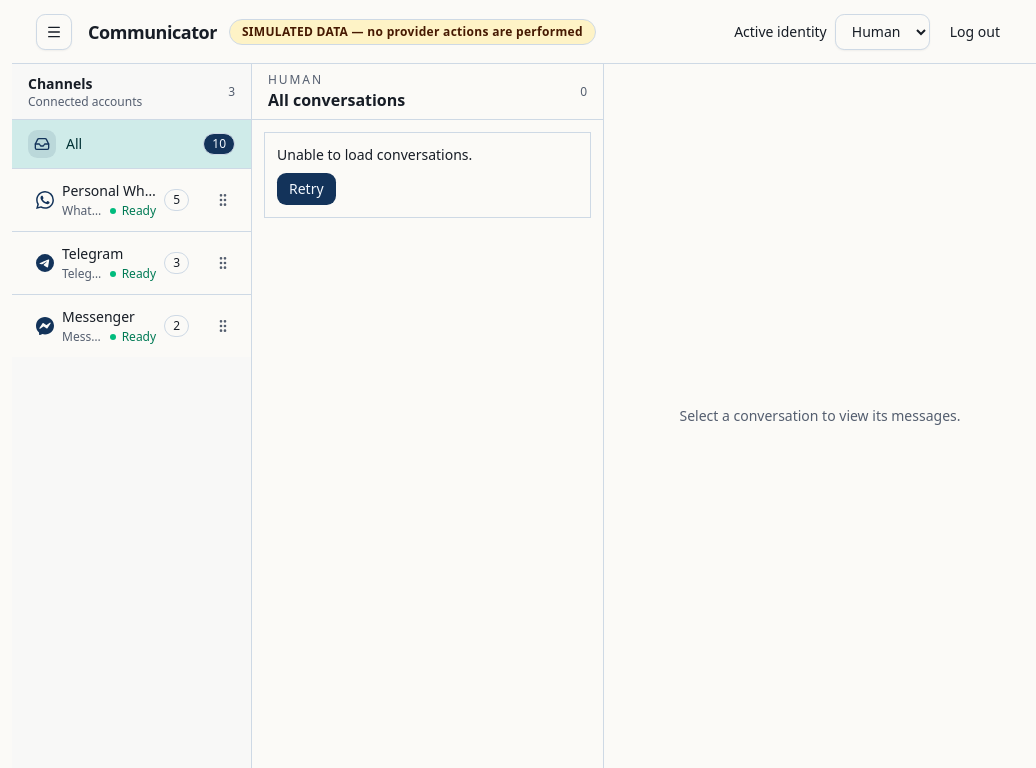
Test: ConversationsShell › retries a conversation request after a simulated server error
Expected: the message "Unable to load conversations. Retry" is shown, [264, 132, 591, 218]
Click the button "Retry": {"x": 306, "y": 189} [277, 173, 336, 205]
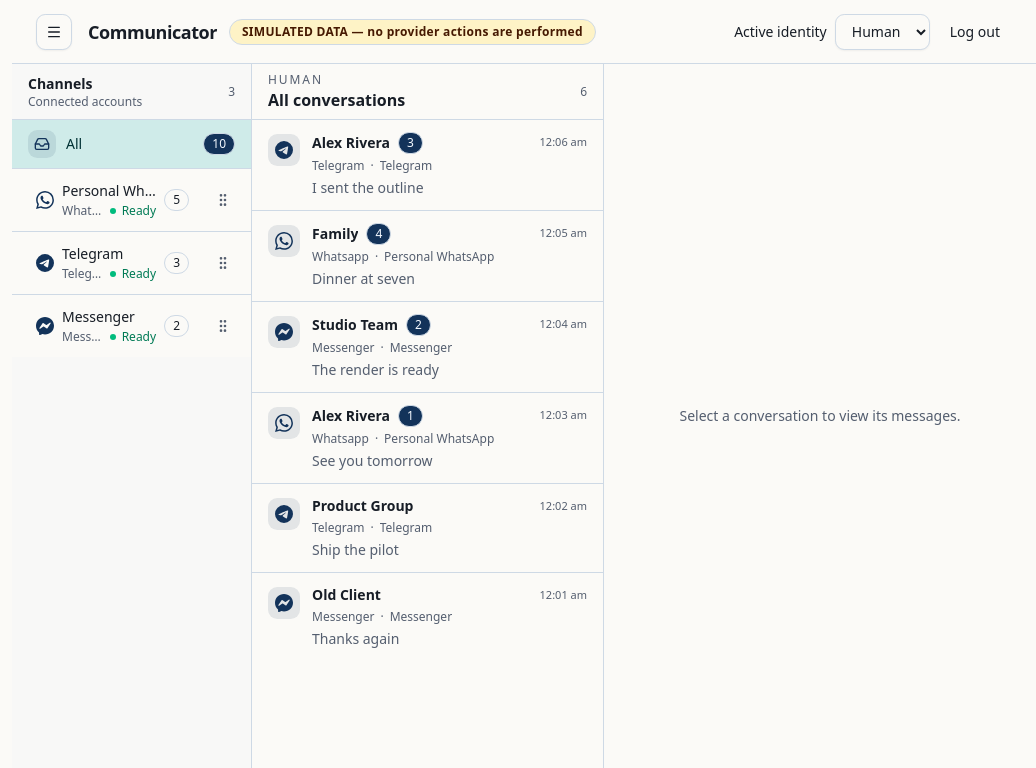
Expected: the number of links with test id "conversation-row" is 6, [252, 120, 603, 210]; [252, 211, 603, 301]; [252, 302, 603, 392]; [252, 393, 603, 483]; [252, 484, 603, 572]; [252, 573, 603, 661]
